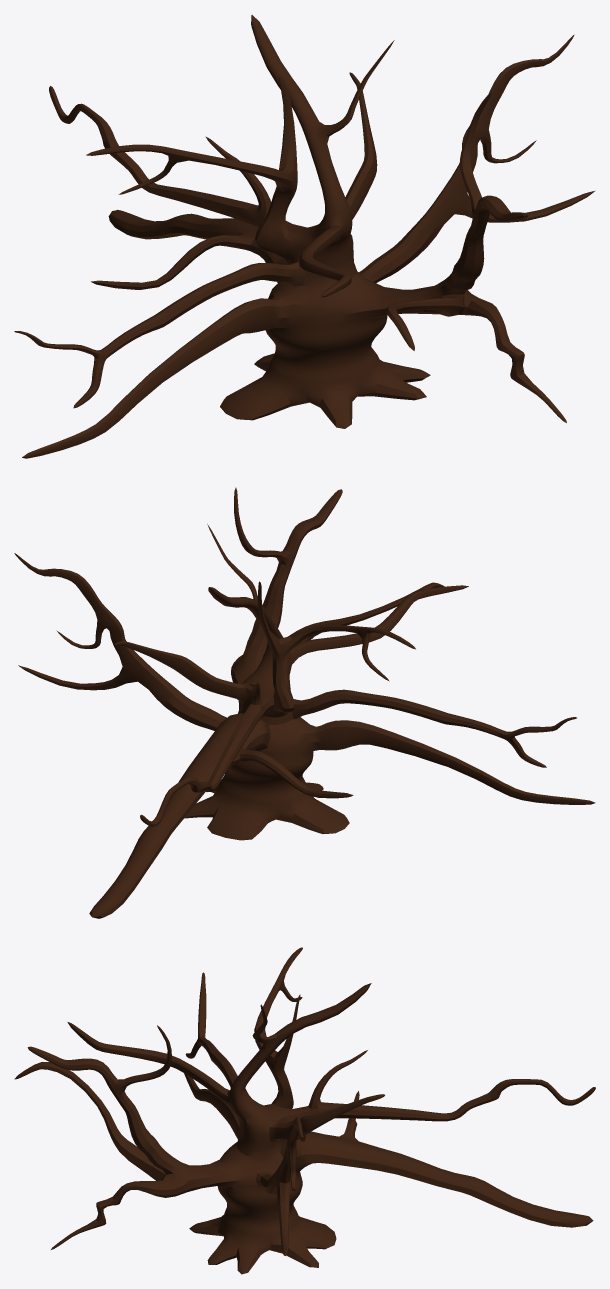
Rendered from Oaktree_RJ_2709.fbx.
3 views of the same model, one above another, from view 1: azimuth 30°, elevation 25°; view 2: azimuth 150°, elevation 25°; view 3: azimuth 270°, elevation 25° (orthographic). The views are drawn at different scales.
Parts seen in each view (by area): view 1: OakTree_RJ_2709; view 2: OakTree_RJ_2709; view 3: OakTree_RJ_2709.
Part boxes in pixels (x1=…): OakTree_RJ_2709: x1=14, y1=15, x2=595, y2=458; OakTree_RJ_2709: x1=14, y1=487, x2=595, y2=918; OakTree_RJ_2709: x1=14, y1=947, x2=595, y2=1274.
Bounding box in the file's own units: 800 × 400 × 800.
